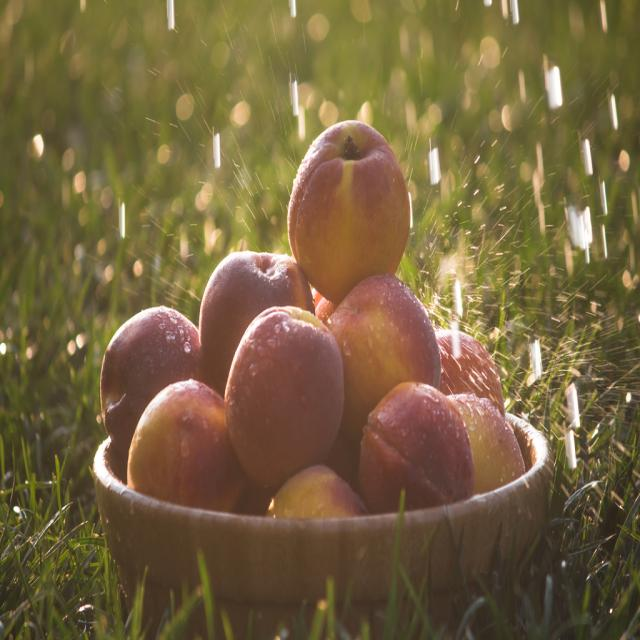Peach: (98, 119, 525, 516)
